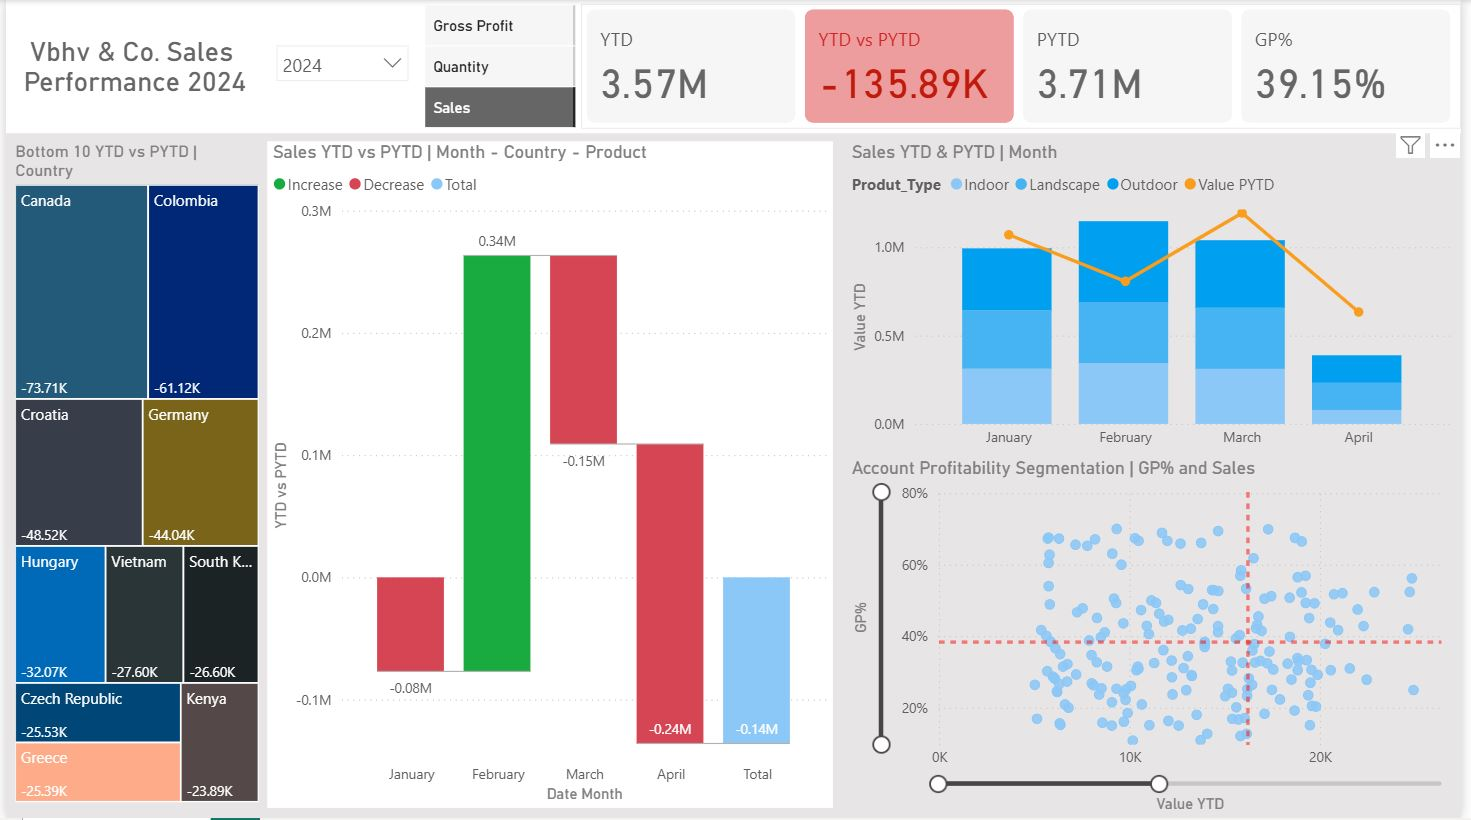

What the dashboard file says about the page in this screenshot:
{"tool":"powerbi","page":{"name":"Performance Report","canvas":[1280,720],"ordinal":0},"visuals":[{"type":"cardVisual","fields":{"Data":["_Measures.Switch_YTD","_Measures.YTD vs PYTD","_Measures.Switch_PYTD","_Measures.GP%"]},"box":[506.2,3.8,773.8,110],"z":0},{"type":"advancedSlicerVisual","fields":{"Values":["Slicer_Val.Values"]},"box":[363.8,0,142.5,117.5],"z":1000},{"type":"slicer","fields":{"Values":["Dim_Date.Date.Variation.Date Hierarchy.Year"]},"box":[227.5,30,136.2,57.5],"z":2000},{"type":"treemap","title":"Bottom 10 YTD vs PYTD | Country","fields":{"Values":["_Measures.YTD vs PYTD"],"Group":["Dim_Accounts.country"]},"box":[3.8,123.8,224,586.2],"z":3000},{"type":"waterfallChart","fields":{"Y":["_Measures.YTD vs PYTD"],"Category":["Dim_Date.Date.Variation.Date Hierarchy.Month","Dim_Accounts.country","Dim_Product.Produt_Type","Dim_Product.Product_Name"]},"box":[230,123.8,497.5,586.2],"z":4000},{"type":"lineStackedColumnComboChart","fields":{"Category":["Dim_Date.Date.Variation.Date Hierarchy.Quarter","Dim_Date.Date.Variation.Date Hierarchy.Month"],"Y":["_Measures.Switch_YTD"],"Y2":["_Measures.Switch_PYTD"],"Series":["Dim_Product.Produt_Type"]},"box":[738.8,123.8,538.8,278.8],"z":5000},{"type":"scatterChart","fields":{"Y":["_Measures.GP%"],"X":["_Measures.Switch_YTD"],"Category":["Dim_Accounts.Account"]},"box":[738.8,402.5,538.8,317.5],"z":6000},{"type":"card","fields":{"Values":["_Measures._Report title"]},"box":[0,0,227.5,115],"z":6001}]}

Visuals, with their boxes in screenshot pixels (x1, y1, x2, y2), scaled from the page's 1280x720 canvas onto the 1471x820 screenshot:
cardVisual - _Measures.Switch_YTD x _Measures.YTD vs PYTD: (582, 4, 1470, 130)
advancedSlicerVisual - Slicer_Val.Values: (418, 0, 582, 134)
slicer - Dim_Date.Date.Variation.Date Hierarchy.Year: (261, 34, 418, 100)
"Bottom 10 YTD vs PYTD | Country" treemap: (4, 141, 262, 809)
waterfallChart - _Measures.YTD vs PYTD x Dim_Date.Date.Variation.Date Hierarchy.Month: (264, 141, 836, 809)
lineStackedColumnComboChart - Dim_Date.Date.Variation.Date Hierarchy.Quarter x Dim_Date.Date.Variation.Date Hierarchy.Month: (849, 141, 1468, 459)
scatterChart - _Measures.GP% x _Measures.Switch_YTD: (849, 458, 1468, 819)
card - _Measures._Report title: (0, 0, 261, 131)
